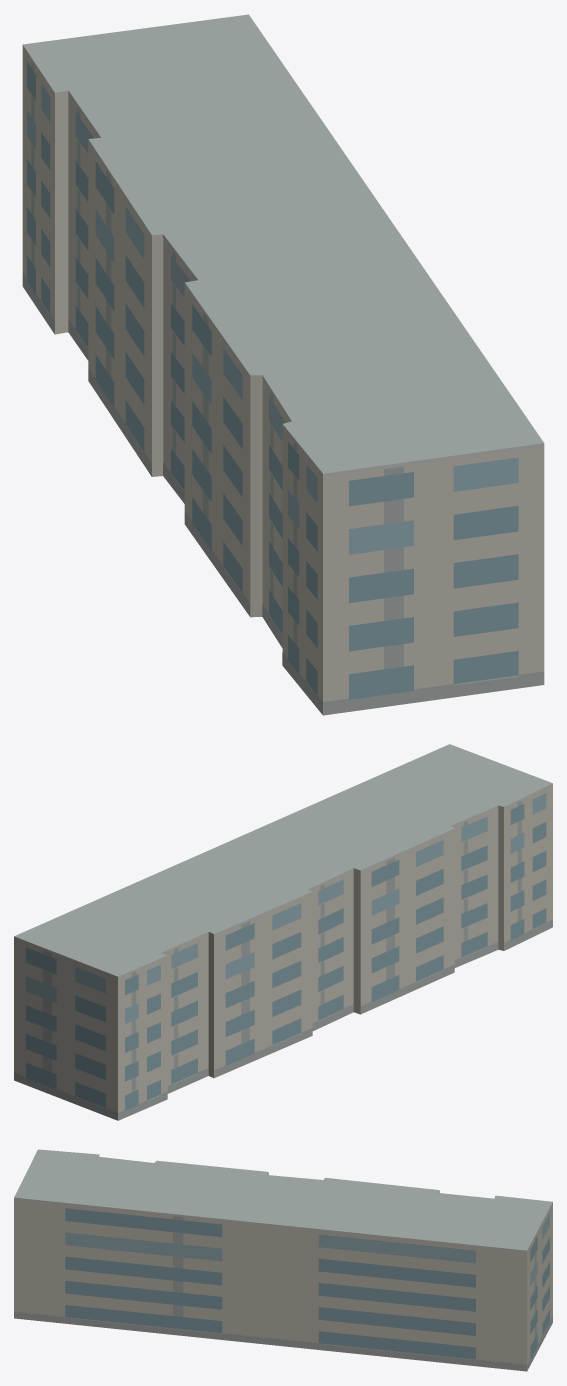
File: survey-upis-32868522.glb
The picture shows the model from 3 angles, top to bottom: view 1: azimuth 30°, elevation 25°; view 2: azimuth 150°, elevation 25°; view 3: azimuth 270°, elevation 25°; orthographic projection. The views are drawn at different scales.
Visible parts, largest first — view 1: survey-upis-32868522.tmp; view 2: survey-upis-32868522.tmp; view 3: survey-upis-32868522.tmp.
Part boxes in pixels (x1,y1,x2,y2): survey-upis-32868522.tmp: (22,14,544,715); survey-upis-32868522.tmp: (14,744,552,1120); survey-upis-32868522.tmp: (14,1149,552,1371).
Bounding box in the file's own units: 27.4 × 15.25 × 61.62.
